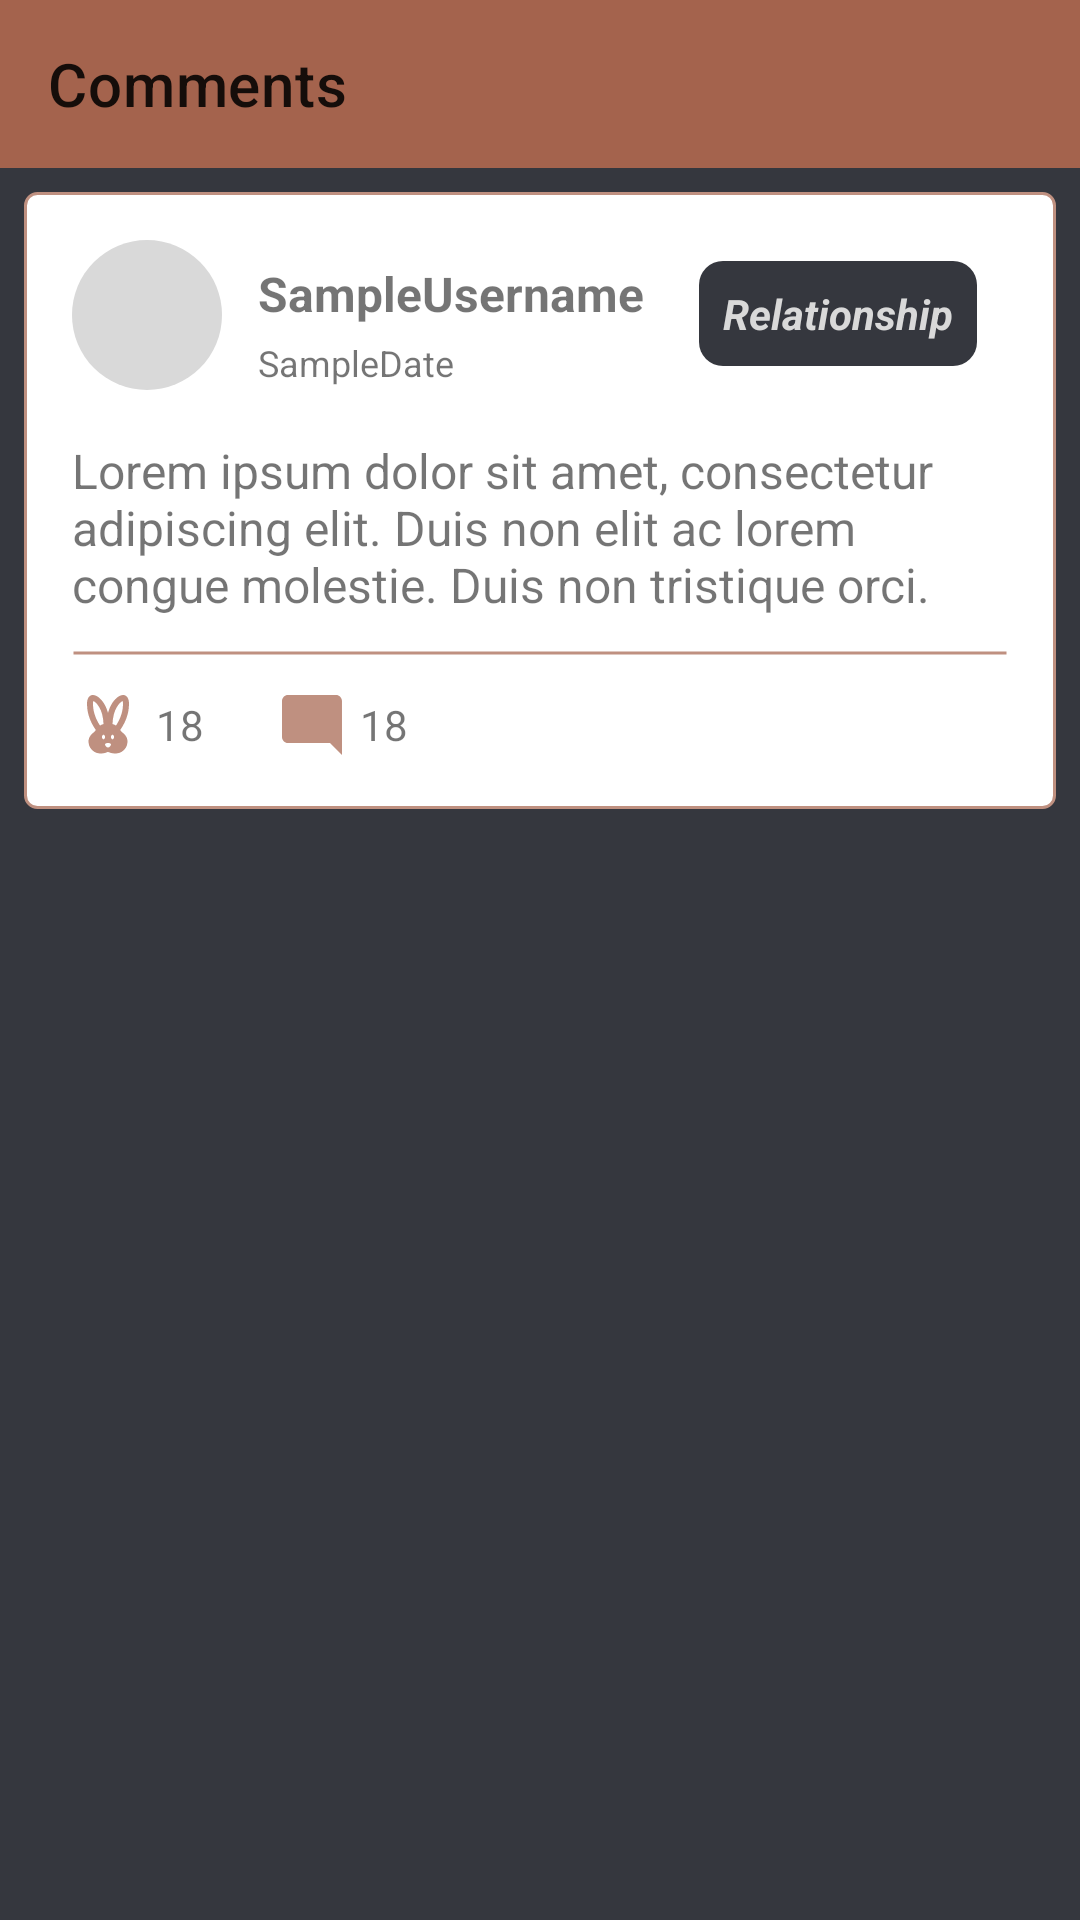

Where icons sit on this 1080px×1920px app screen, as (x1, y1, x2, y2):
comments: (282, 695, 342, 755)
